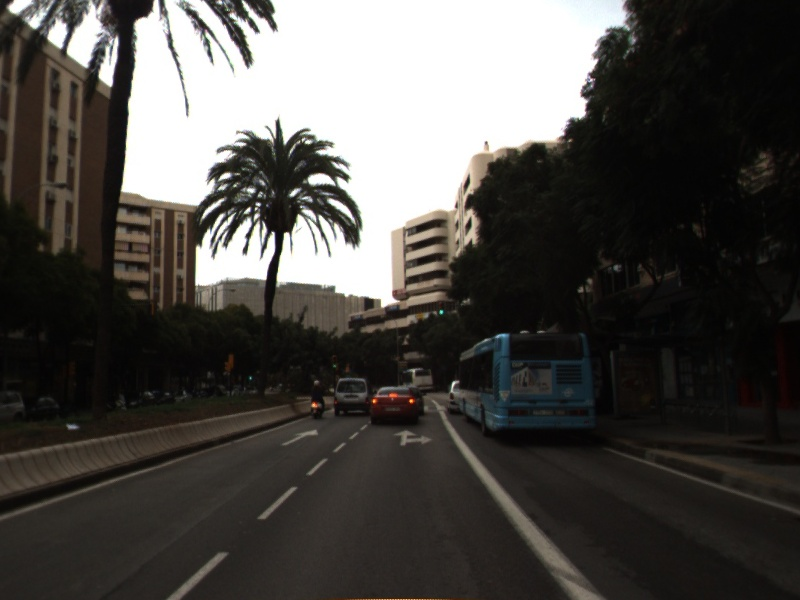STRAIGHT: (279, 427, 321, 448)
STRAIGHT_RIGHT: (391, 428, 435, 448)
